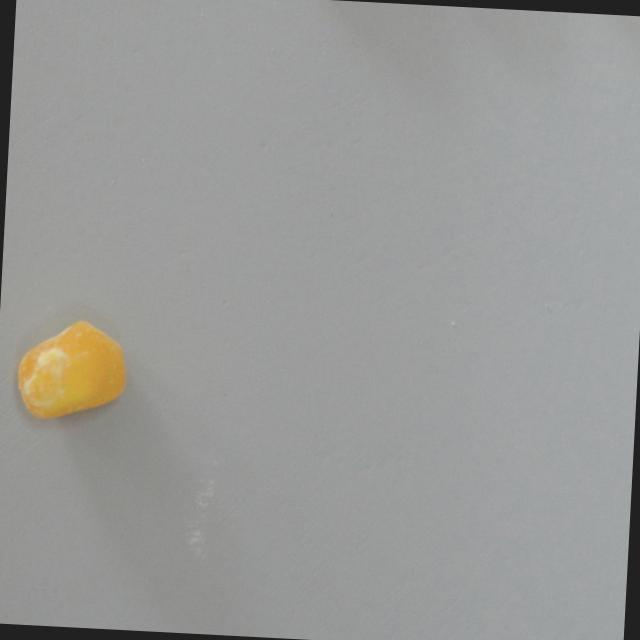pelicula: (11, 310, 133, 427)
